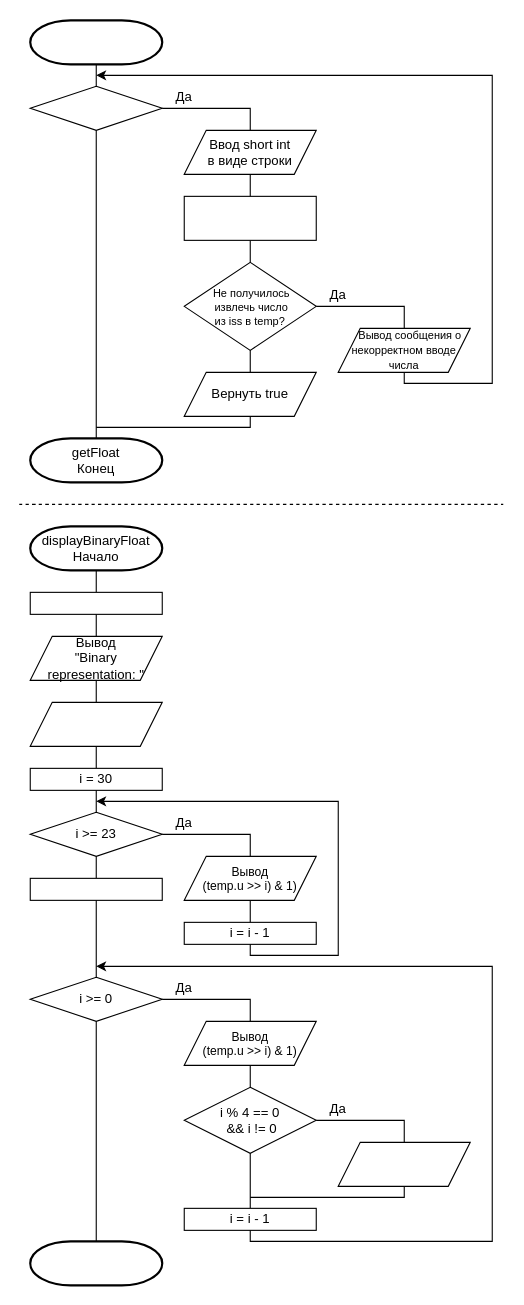
Some shapes in this 524 by 1305 pixel diagram are drawn without their labels. The shapes that lost their labels are listed below. From the top down, each one's box as (x1, y1, x2, y2) in pixels, then its label:
(29, 19, 163, 65): getFloat Начало
(29, 85, 162, 130): Не было прерывания?
(183, 195, 316, 240): Инициализация потока iss
(29, 591, 162, 614): temp.f = value
(29, 701, 162, 746): Вывод (temp.u >> 31) & 1
(29, 877, 162, 900): i = 22
(337, 1141, 470, 1186): Вывод " "
(29, 1240, 163, 1286): displayBinaryFloat Конец
